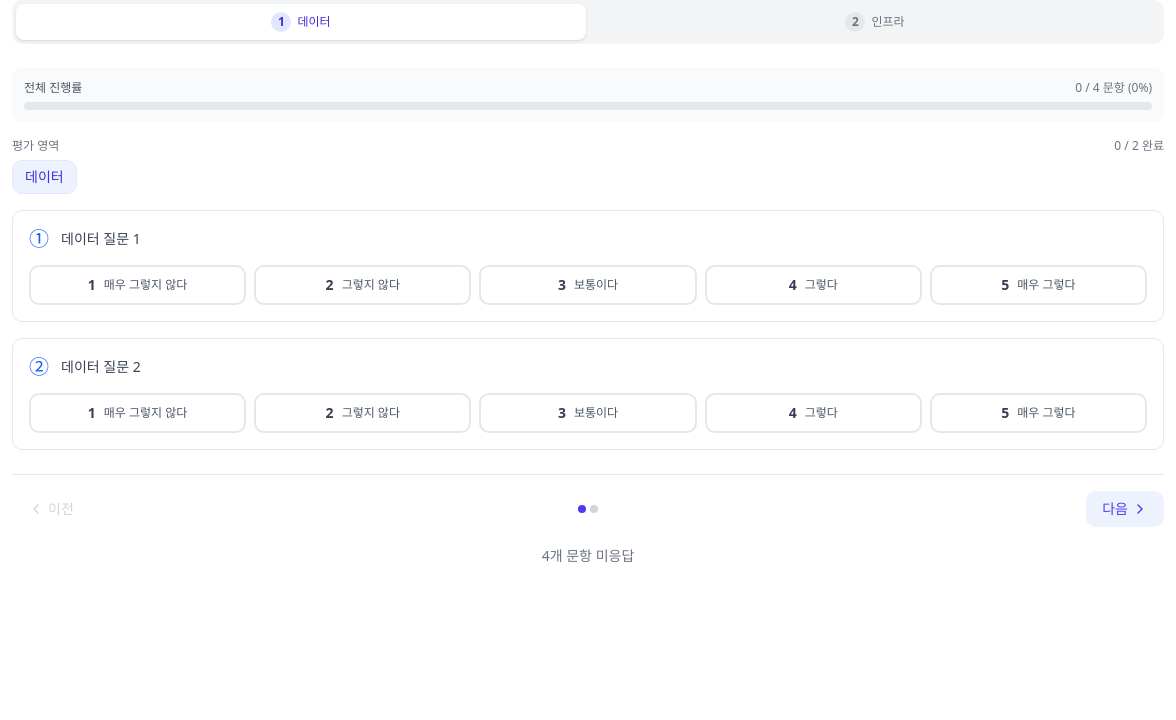
Scenario: SelfAssessmentForm › 스텝 네비게이션 › 미응답 질문이 있으면 다음 스텝으로 이동하지 못한다
Click the button "다음": {"x": 1125, "y": 509} [1086, 491, 1164, 527]
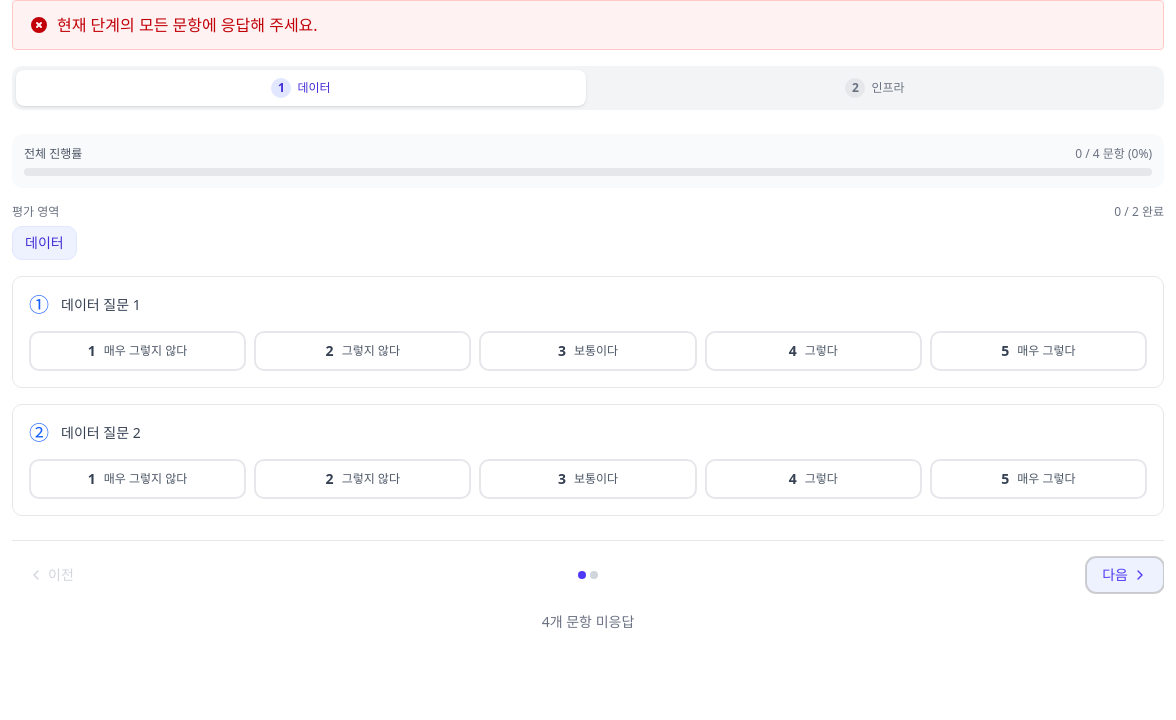
Now the text "현재 단계의 모든 문항에 응답해 주세요." is shown, box [12, 0, 1164, 50]
